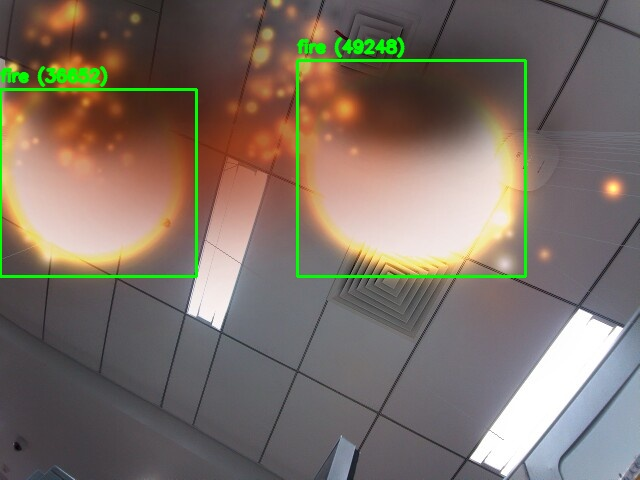fire: (297, 60, 525, 276), (0, 89, 196, 276)
